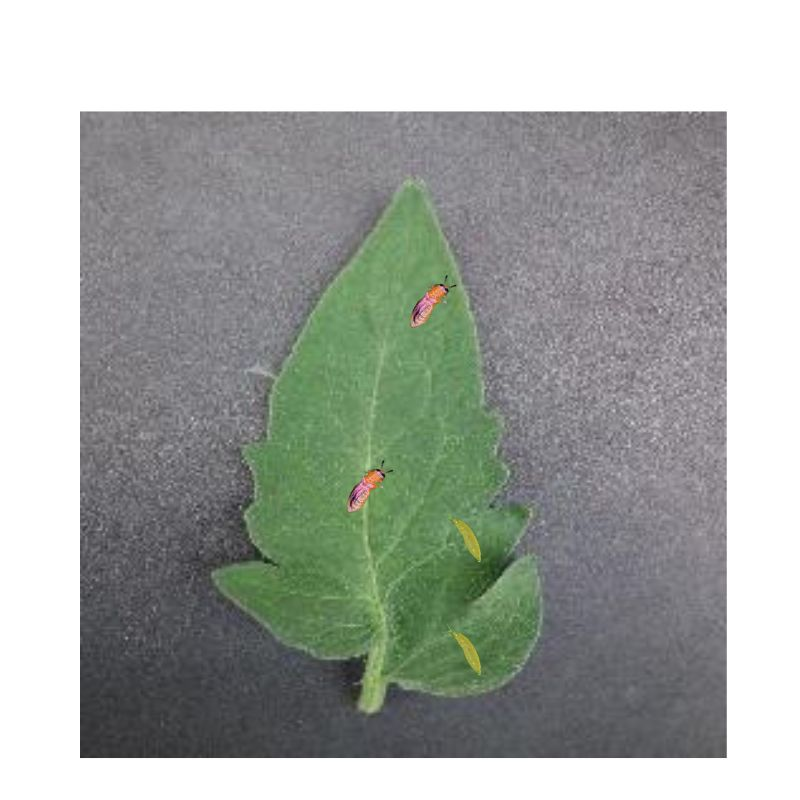thrips: (407, 272, 460, 330), (346, 460, 394, 515), (446, 625, 482, 677), (450, 517, 483, 561)
